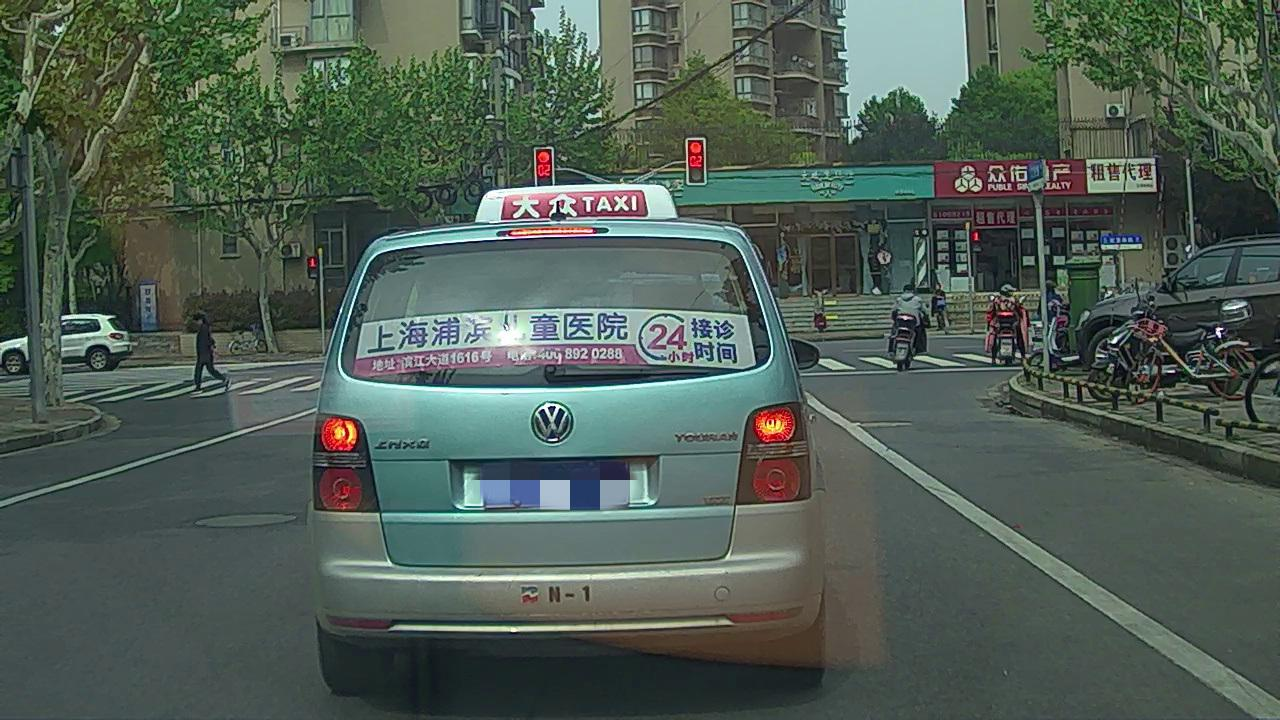traffic_light: (688, 138, 705, 185), (535, 149, 552, 185)
